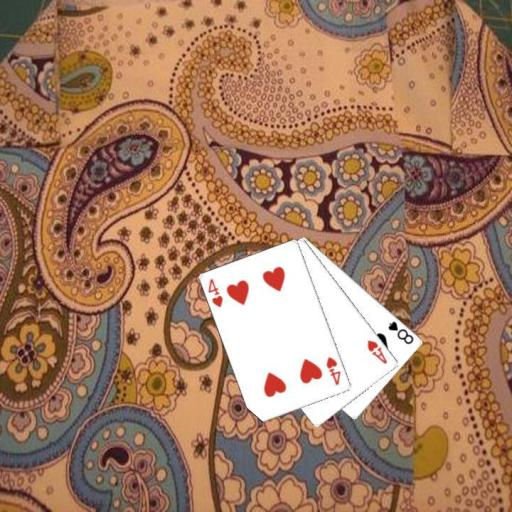4H: (205, 275, 225, 309), (324, 353, 343, 387)
8S: (386, 318, 416, 345)
AH: (364, 337, 389, 366)
